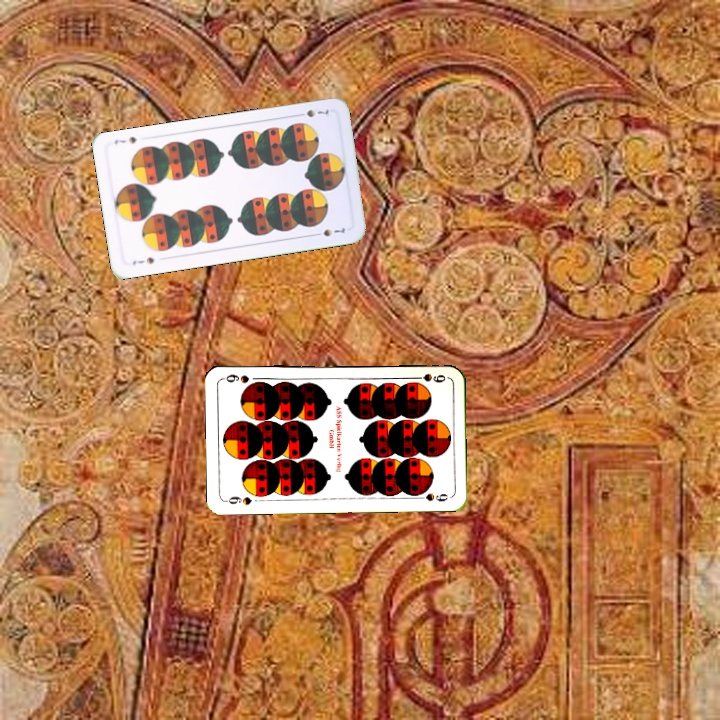S7: (293, 105, 333, 120), (129, 253, 157, 268)
S9: (408, 369, 448, 385), (221, 492, 254, 507)
